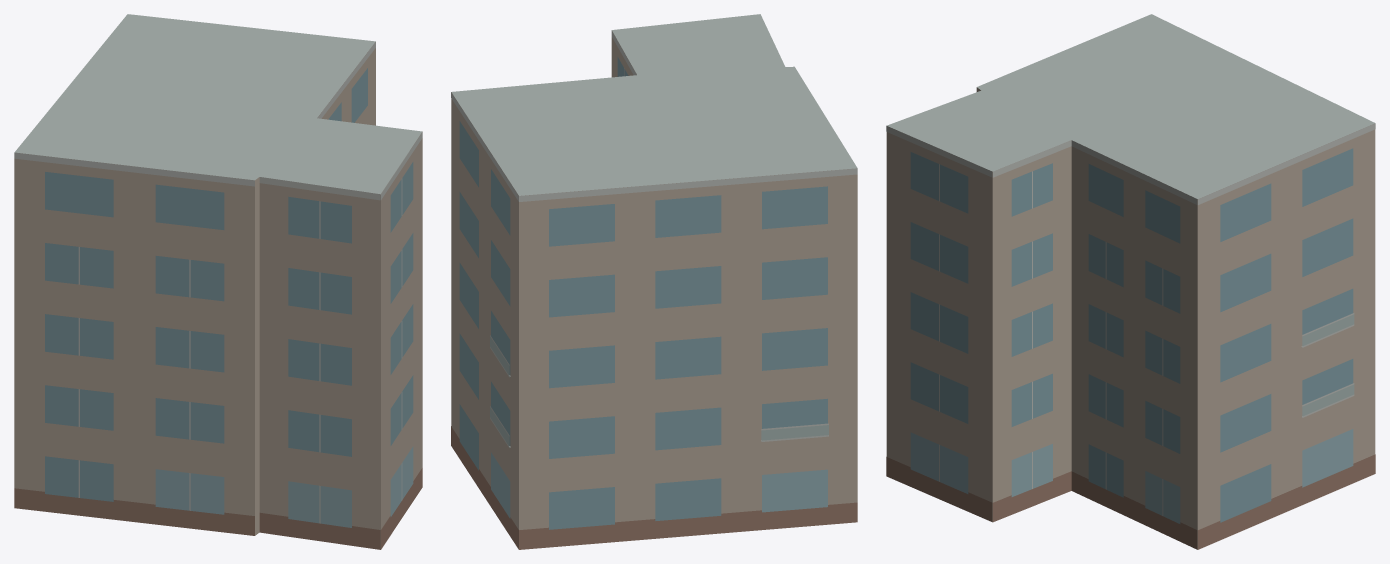
Rendered from survey-upis-32595609.glb.
3 renders of one model, left to right at view 1: azimuth 30°, elevation 25°; view 2: azimuth 150°, elevation 25°; view 3: azimuth 270°, elevation 25°, orthographic.
Visible parts, largest first — view 1: survey-upis-32595609.tmp; view 2: survey-upis-32595609.tmp; view 3: survey-upis-32595609.tmp.
Part boxes in pixels (x1,y1,x2,y2): survey-upis-32595609.tmp: (14,14,422,549); survey-upis-32595609.tmp: (451,14,857,549); survey-upis-32595609.tmp: (886,14,1375,549).
Size of the model in its own units: 15.81 by 13.95 by 17.64.
